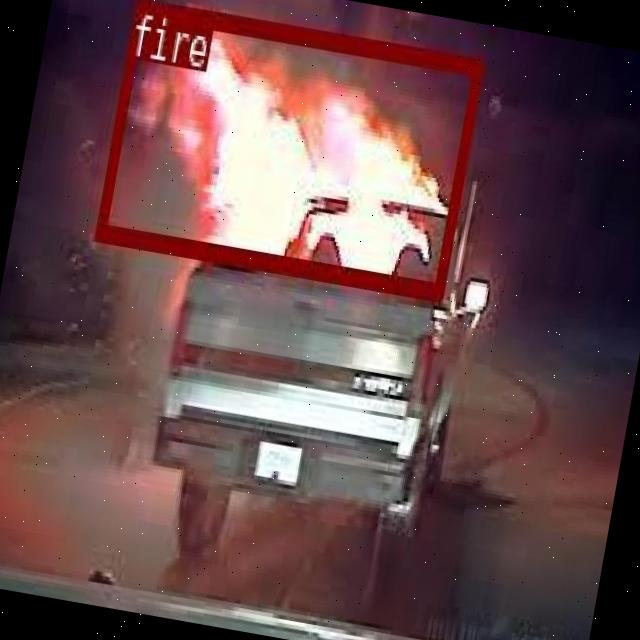fire: (94, 0, 483, 295)
